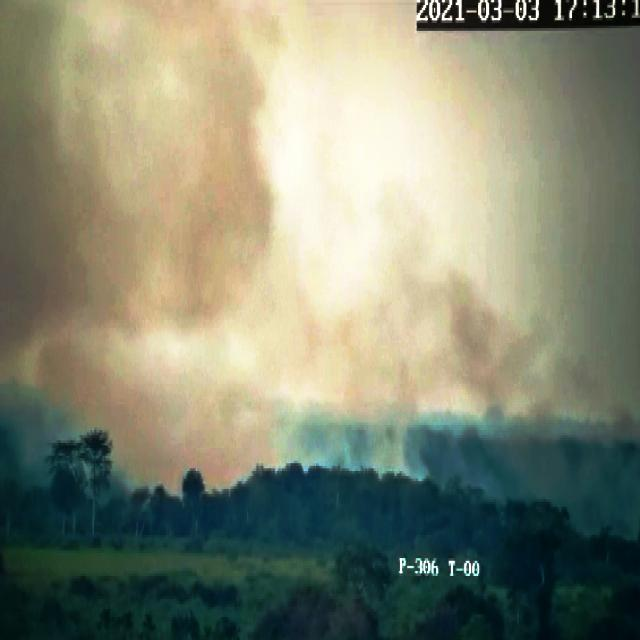asap: (1, 1, 305, 503), (418, 145, 640, 565), (255, 98, 445, 526)
